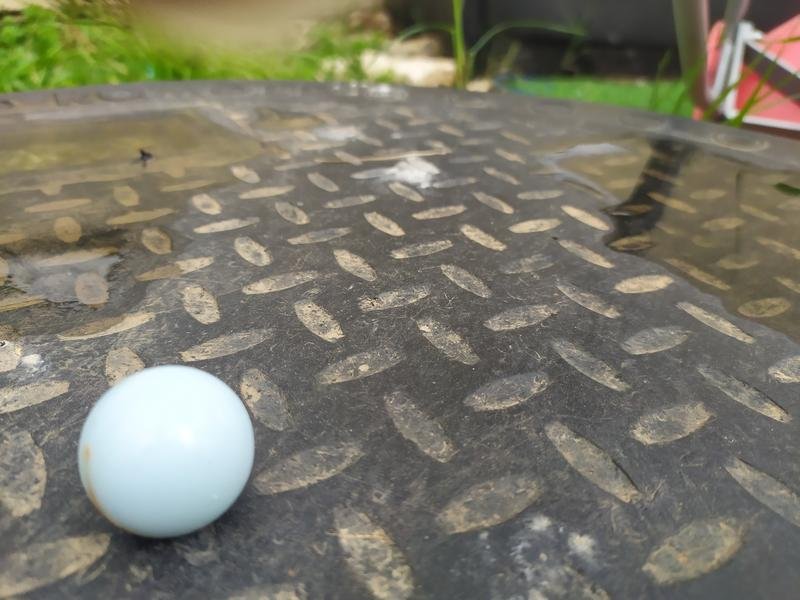Warning: (72, 360, 261, 542)
